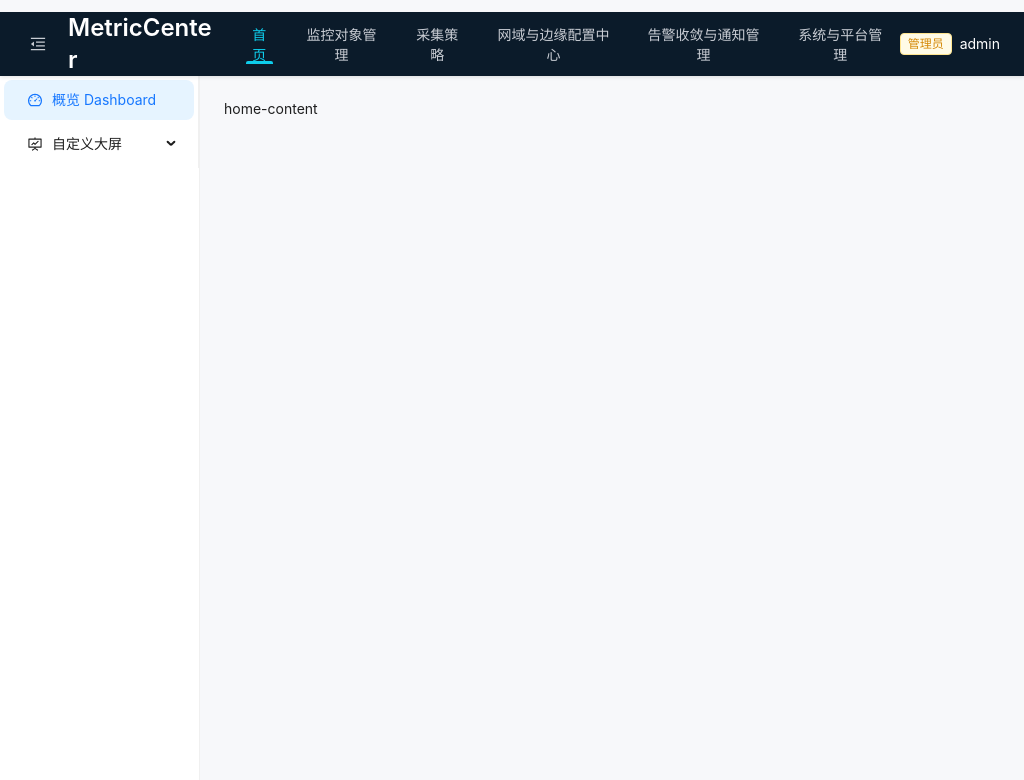
Test case: MainLayout › navigates to /collectors (首个子项) when top-module 采集策略 clicked
Click the button "采集策略": (437, 44) [398,24,476,64]
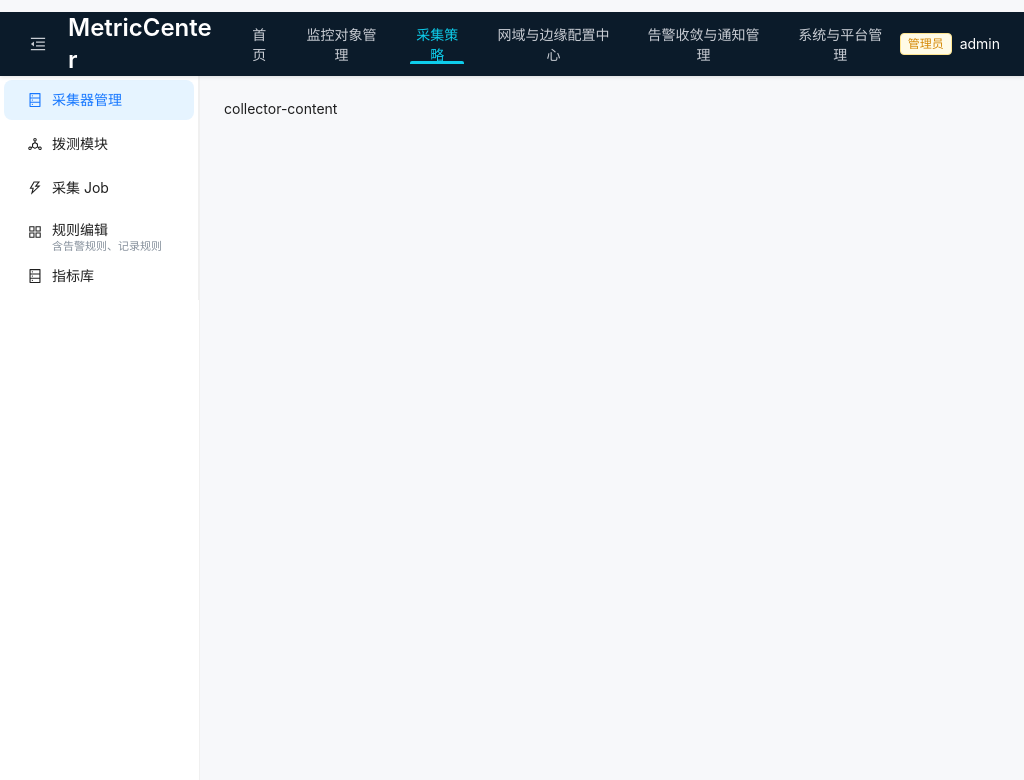
Check: the text "collector-content" is shown
